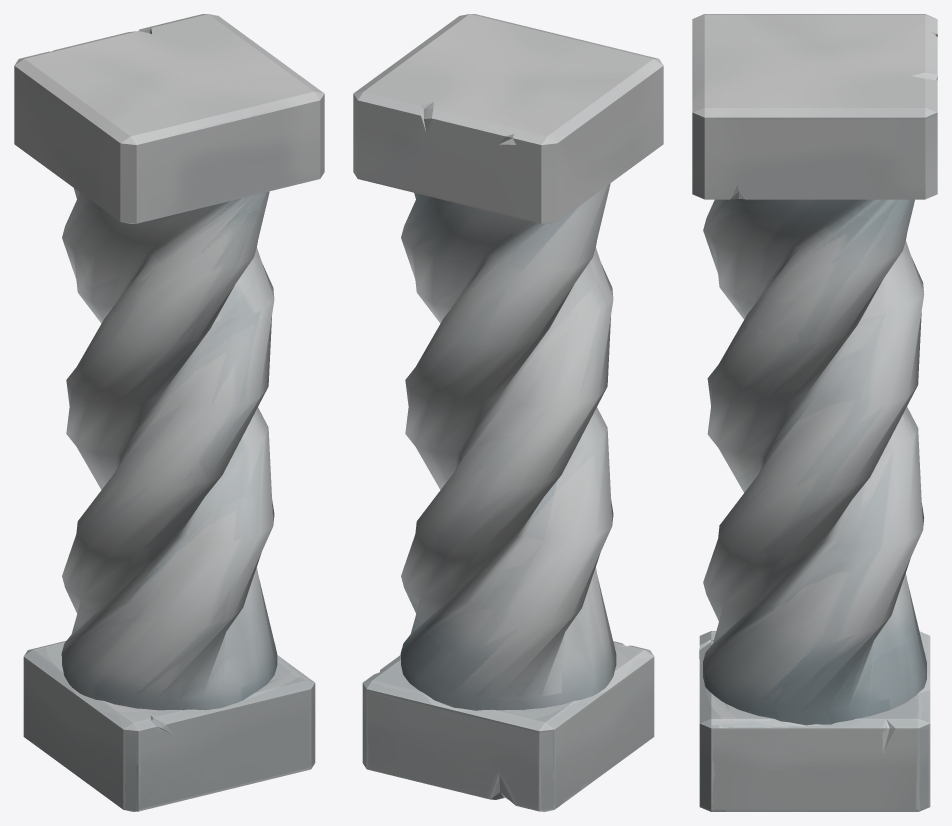
Rendered from pillar.fbx.
The picture shows the model from 3 angles, left to right: view 1: azimuth 30°, elevation 25°; view 2: azimuth 150°, elevation 25°; view 3: azimuth 270°, elevation 25°; orthographic projection. The views are drawn at different scales.
Visible parts, largest first — view 1: Cube.001; view 2: Cube.001; view 3: Cube.001.
Boxes of the visible parts, bbox=[...] form: Cube.001: bbox=[14, 14, 324, 811]; Cube.001: bbox=[353, 14, 663, 811]; Cube.001: bbox=[692, 14, 937, 811].
Bounding box in the file's own units: 747 × 2375 × 747.
Materials: 1 (1 with a texture image).
